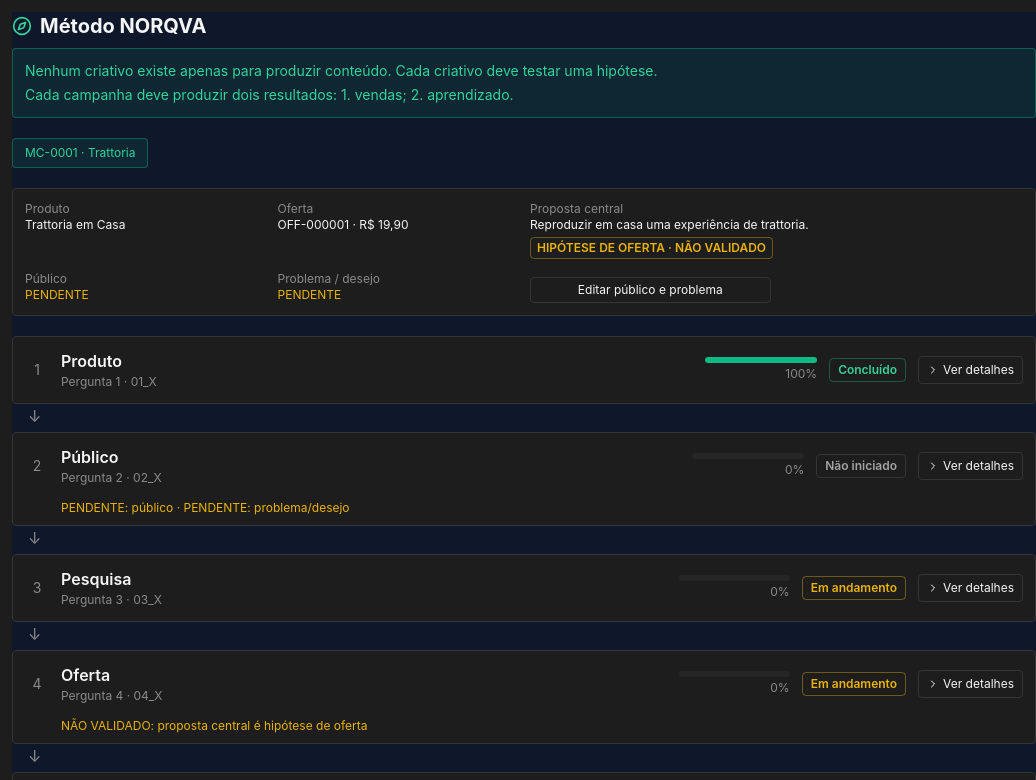
Método NORQVA — tela › shows the principles and the 10-stage map with honest statuses
Expected: the element with test id "method-principles" shows "Cada criativo deve testar uma hipótese", [25,62,658,79]
Expected: the element with test id "method-principles" shows "1. vendas; 2. aprendizado", [25,86,514,103]
What coordinates should you click on to do the following:
click the button "Ver detalhes" in the row of "01_X"
I would click on:
 (970, 370)
Its box is [918,356,1023,384].
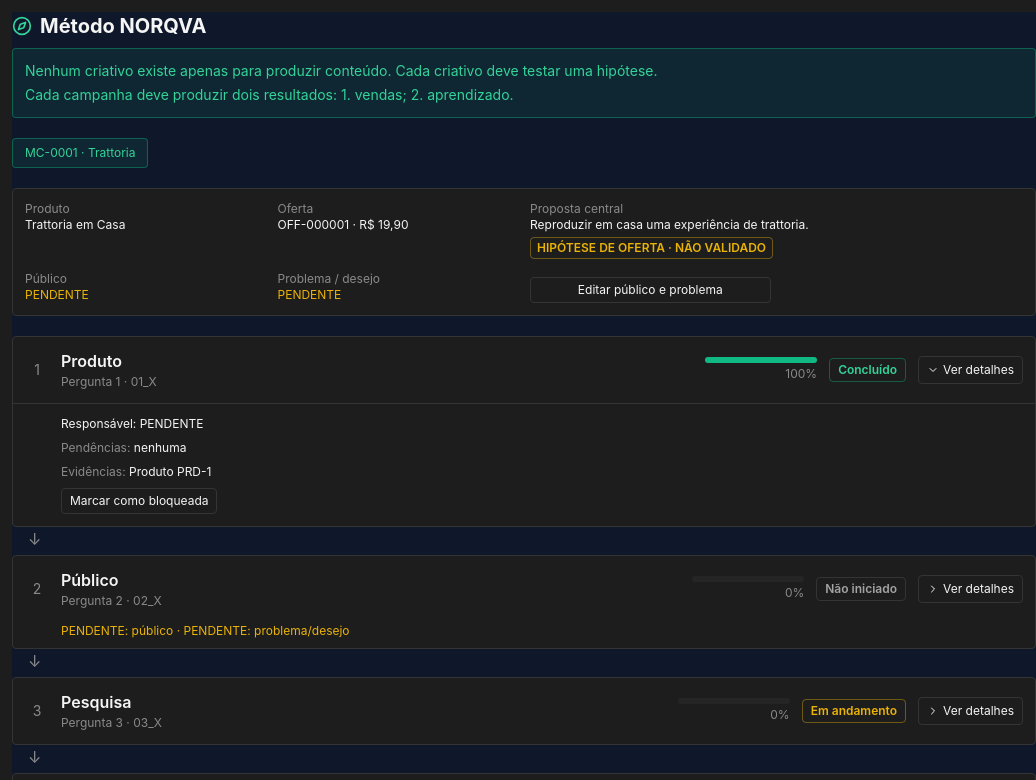
Expected: the element with test id "stage-detail" shows "Produto PRD-1", [129,464,212,479]
